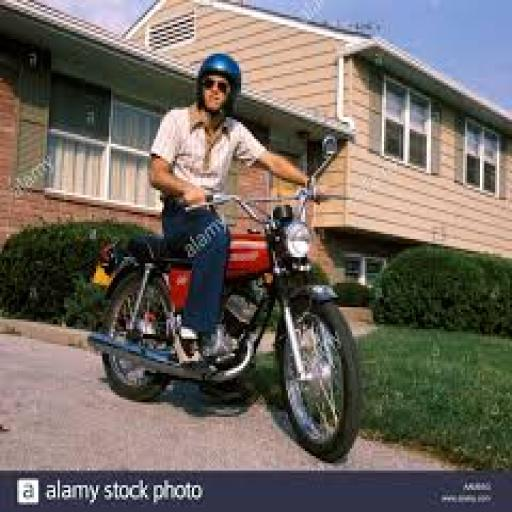helmet: (87, 132, 365, 463), (147, 49, 324, 368), (194, 51, 241, 115)
